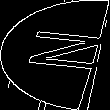N_E: (7, 31, 103, 79)
